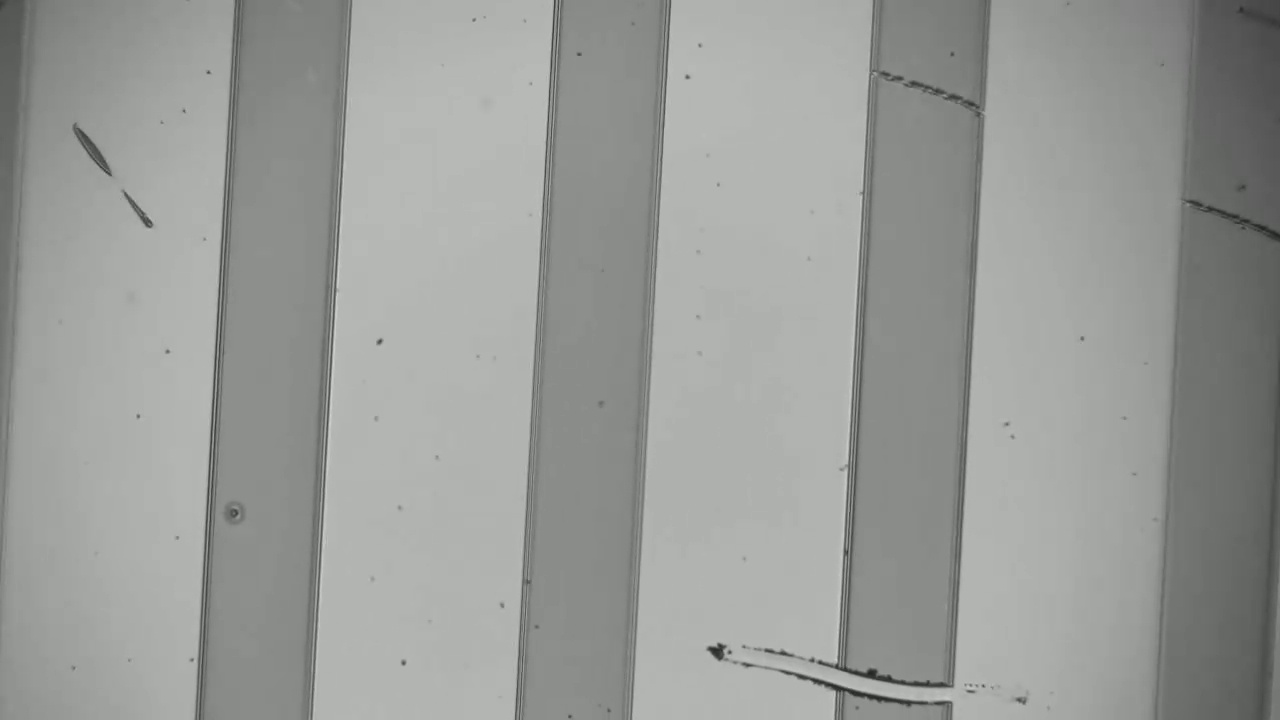Short_circuit: (813, 643, 972, 717)
scratch: (883, 64, 973, 119), (1198, 190, 1275, 243)
